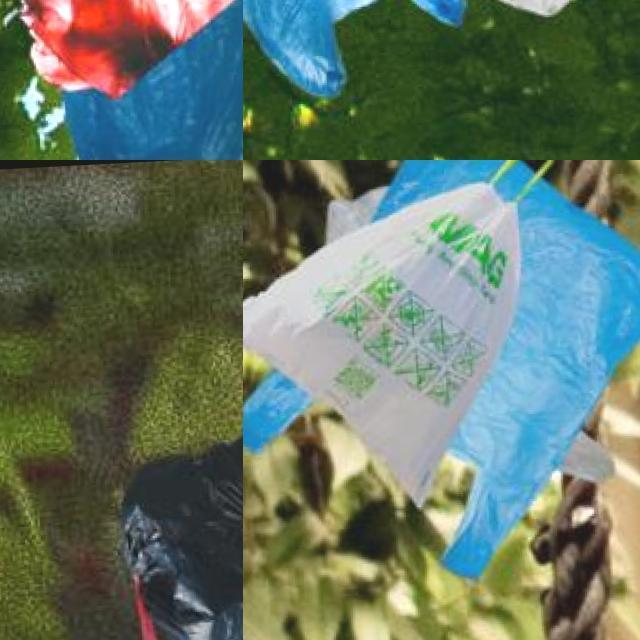waste: (243, 160, 640, 586), (243, 178, 537, 507), (31, 0, 243, 160), (111, 386, 243, 640), (243, 0, 474, 100)
